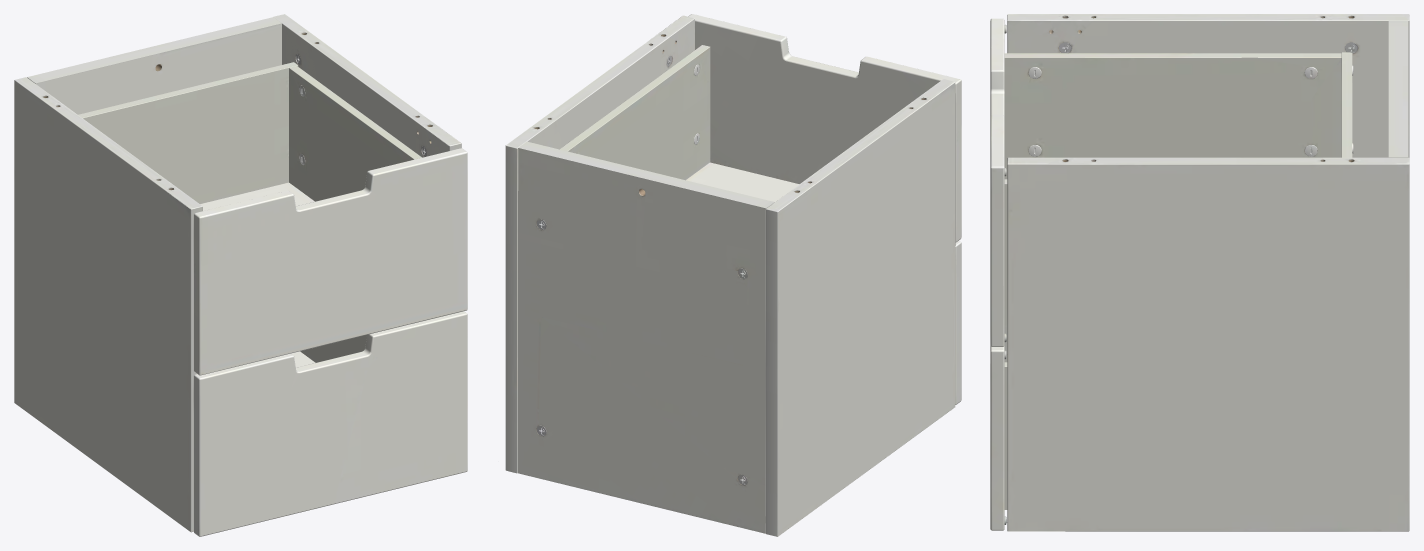
File: 23 - NORDLI - 抽屜櫃2抽, 白色, 40x45 公分 IKEA 線上購物.glb
The picture shows the model from 3 angles, left to right: view 1: azimuth 30°, elevation 25°; view 2: azimuth 150°, elevation 25°; view 3: azimuth 270°, elevation 25°; orthographic projection. The views are drawn at different scales.
Parts seen in each view (by area): view 1: 90383457-NORDLI001; view 2: 90383457-NORDLI001; view 3: 90383457-NORDLI001.
Boxes of the visible parts, left/top/right/bottom form: 90383457-NORDLI001: left=14, top=14, right=467, bottom=536; 90383457-NORDLI001: left=505, top=14, right=961, bottom=536; 90383457-NORDLI001: left=990, top=14, right=1409, bottom=531.
Bounding box in the file's own units: 0.4172 × 0.4541 × 0.469.
1 material, 1 textured.
